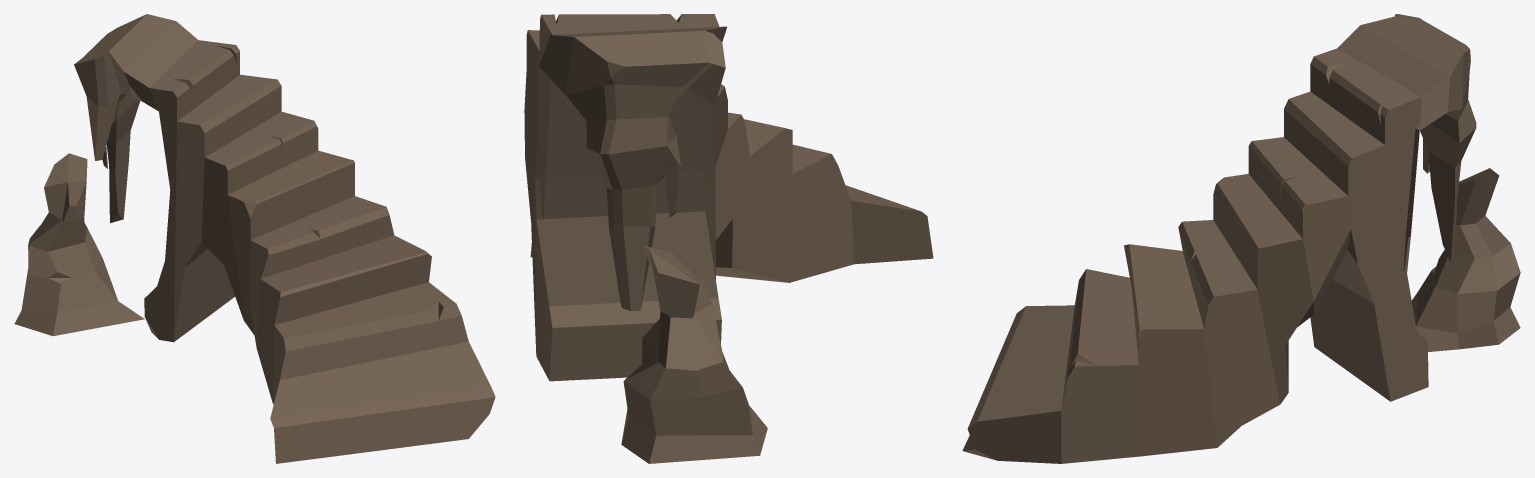
File: Staircase.fbx
The picture shows the model from 3 angles, left to right: view 1: azimuth 30°, elevation 25°; view 2: azimuth 150°, elevation 25°; view 3: azimuth 270°, elevation 25°; orthographic projection. The views are drawn at different scales.
Parts seen in each view (by area): view 1: Staircase; view 2: Staircase; view 3: Staircase.
Boxes of the visible parts, left/top/right/bottom form: Staircase: left=14, top=14, right=495, bottom=463; Staircase: left=524, top=14, right=933, bottom=463; Staircase: left=962, top=14, right=1520, bottom=463.
Bounding box in the file's own units: 1537 × 1518 × 2273.
